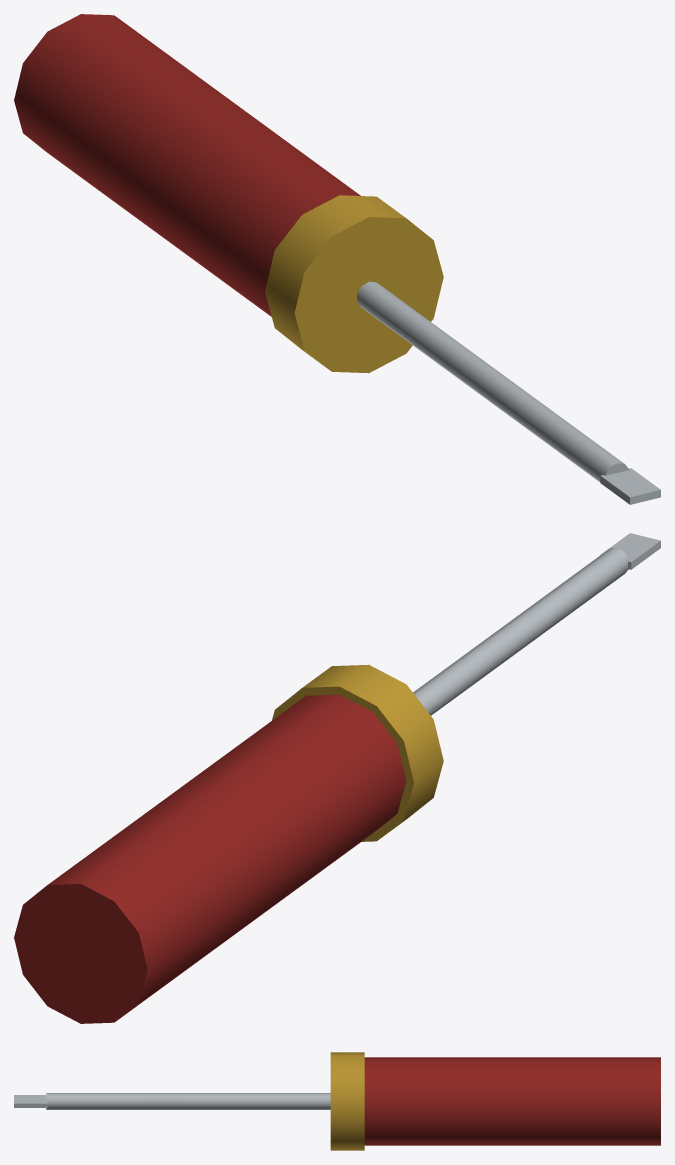
Rendered from tool-screwdriver.glb.
3 views of the same model, one above another, from view 1: azimuth 30°, elevation 25°; view 2: azimuth 150°, elevation 25°; view 3: azimuth 270°, elevation 25° (orthographic). The views are drawn at different scales.
Visible parts, largest first — view 1: STATIC_paint, STATIC_metal; view 2: STATIC_paint, STATIC_metal; view 3: STATIC_paint, STATIC_metal.
Boxes of the visible parts, x1,y1,x2,y2 form: STATIC_paint: (14,14,443,373); STATIC_metal: (357,281,660,504); STATIC_paint: (14,664,443,1023); STATIC_metal: (413,533,660,715); STATIC_paint: (330,1052,660,1150); STATIC_metal: (14,1093,330,1109).
Bounding box in the file's own units: 0.029 × 0.029 × 0.19.
